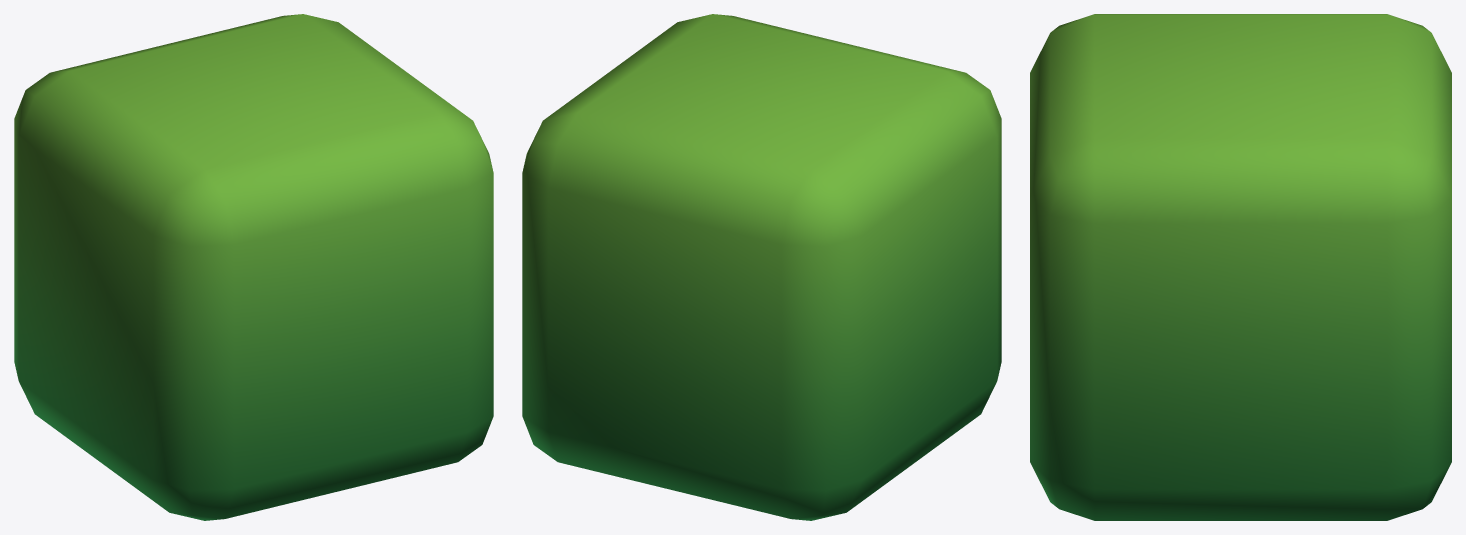
File: kk-bush-2.glb
3 views of the same model, side by side, from view 1: azimuth 30°, elevation 25°; view 2: azimuth 150°, elevation 25°; view 3: azimuth 270°, elevation 25° (orthographic). The views are drawn at different scales.
Visible parts, largest first — view 1: Bush_2_C_Color1; view 2: Bush_2_C_Color1; view 3: Bush_2_C_Color1.
Boxes of the visible parts, x1,y1,x2,y2 form: Bush_2_C_Color1: [14, 14, 493, 520]; Bush_2_C_Color1: [522, 14, 1001, 520]; Bush_2_C_Color1: [1030, 14, 1451, 520].
Bounding box in the file's own units: 1.32 × 1.32 × 1.32.
Materials: 1 (1 with a texture image).
